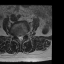CCS_normal: (19, 33, 21, 42)
LFS_severe_stenosis: (23, 32, 25, 37)
LLS_normal: (21, 33, 23, 40)
RFS_severe_stenosis: (15, 32, 17, 38)
RLS_normal: (17, 34, 19, 40)
